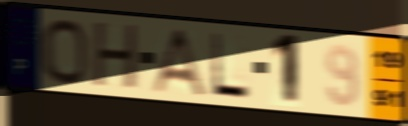1: (269, 32, 301, 110)
9: (323, 41, 363, 109)
A: (148, 26, 210, 99)
H: (91, 20, 141, 93)
L: (209, 30, 252, 102)
O: (38, 16, 90, 86)
